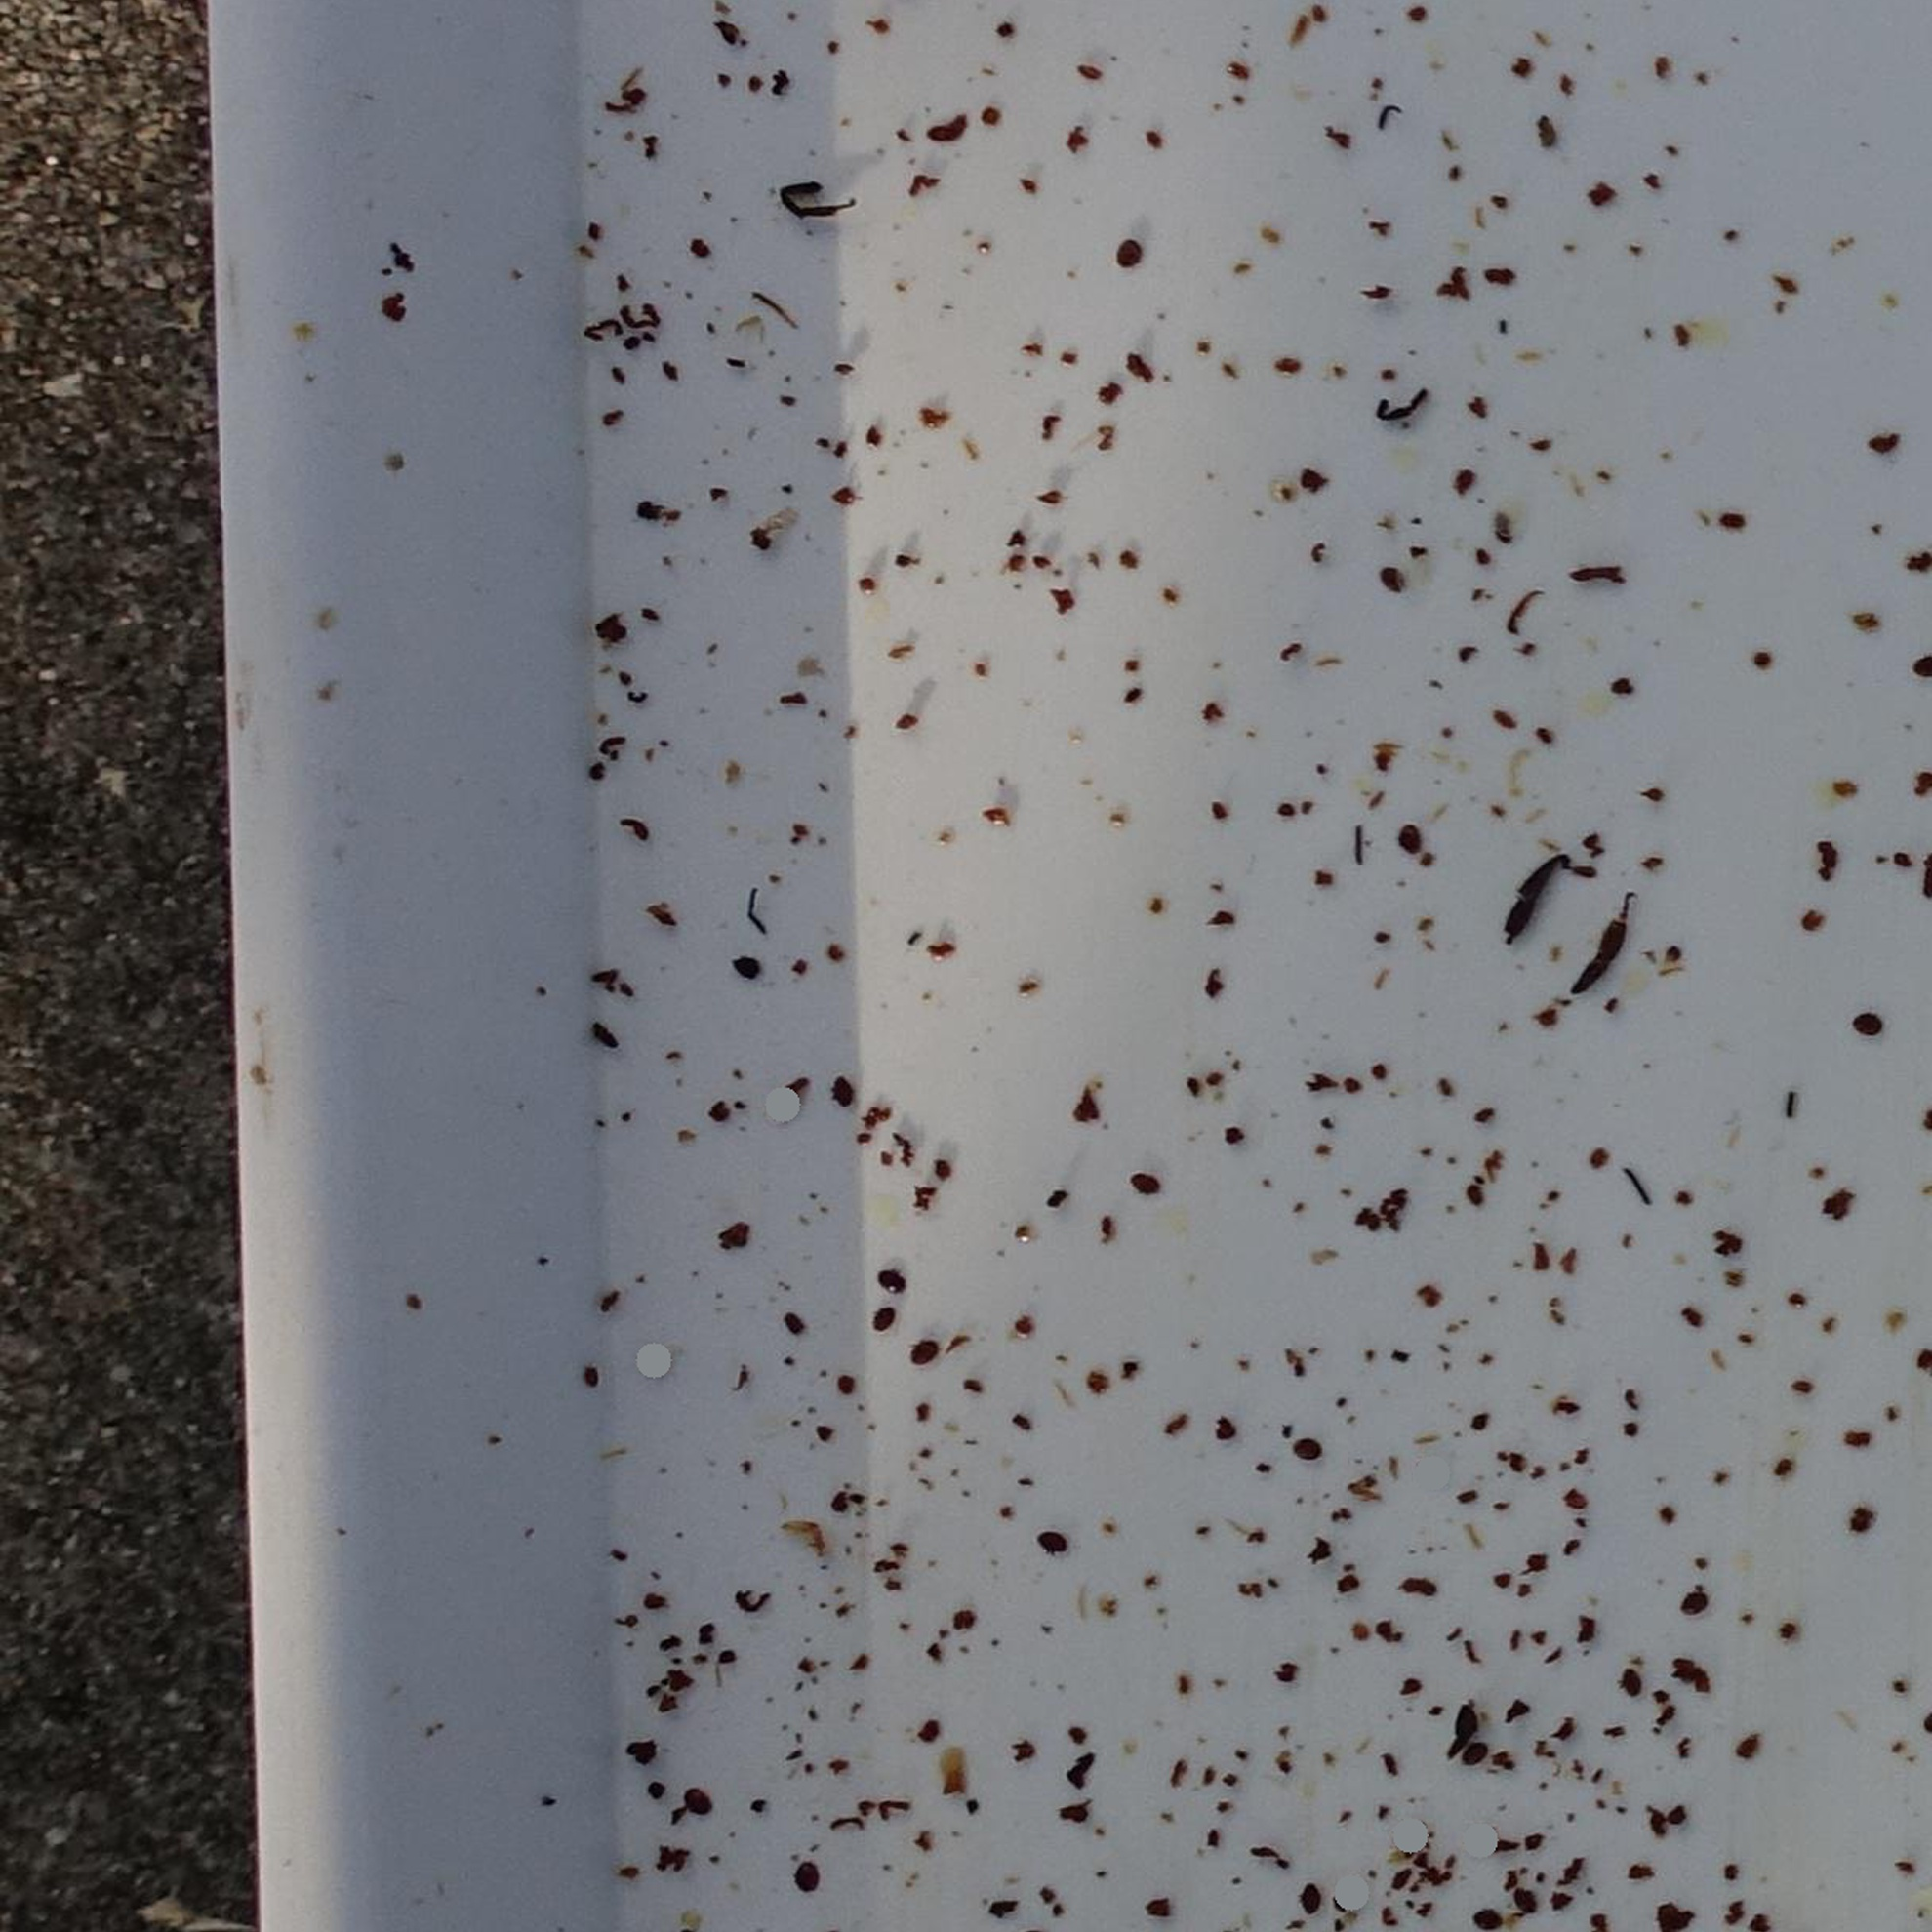Varroa: (1511, 1884, 1537, 1909), (1465, 1743, 1490, 1767), (1046, 1530, 1069, 1557), (690, 1790, 713, 1815), (1382, 566, 1405, 589), (1138, 1169, 1159, 1194), (881, 1267, 902, 1290), (1858, 1012, 1877, 1033), (916, 1339, 936, 1361), (1118, 242, 1138, 264), (874, 1311, 893, 1330), (1622, 1670, 1642, 1690), (1302, 1890, 1322, 1909), (835, 1083, 855, 1102), (801, 1865, 819, 1886), (1481, 1909, 1499, 1928), (1686, 1592, 1704, 1612), (1302, 1438, 1318, 1458), (1405, 828, 1421, 846)
